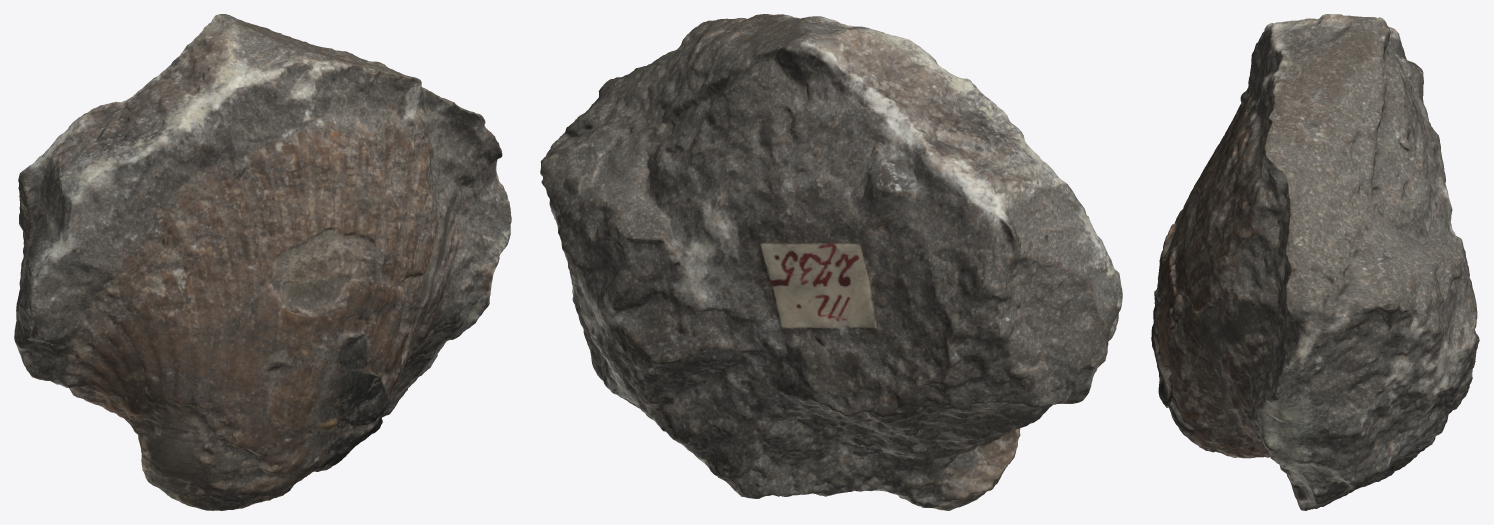
The model's file is EWS0014140.glb.
The picture shows the model from 3 angles, left to right: view 1: azimuth 30°, elevation 25°; view 2: azimuth 150°, elevation 25°; view 3: azimuth 270°, elevation 25°; orthographic projection. The views are drawn at different scales.
Parts seen in each view (by area): view 1: input; view 2: input; view 3: input.
Part boxes in pixels (<box>): input: <box>14,14,511,510</box>; input: <box>540,14,1122,510</box>; input: <box>1151,14,1479,510</box>.
Size of the model in its own units: 0.0568 by 0.0486 by 0.032.
Materials: 1 (1 with a texture image).
